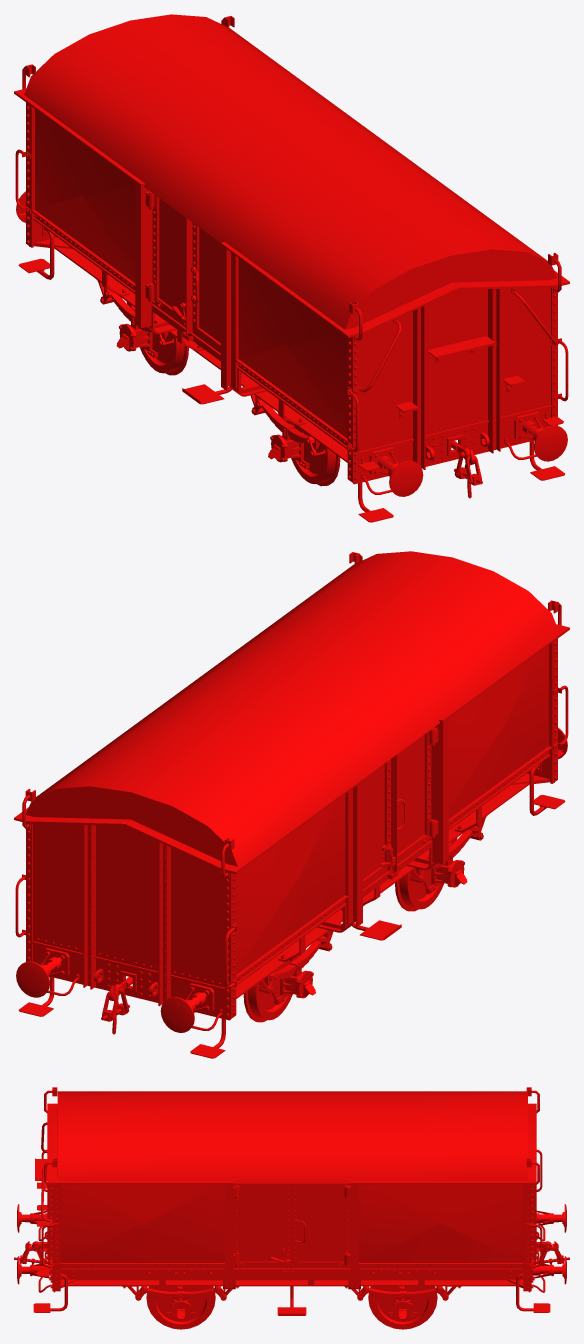
The model's file is Train.fbx.
3 views of the same model, one above another, from view 1: azimuth 30°, elevation 25°; view 2: azimuth 150°, elevation 25°; view 3: azimuth 270°, elevation 25° (orthographic). The views are drawn at different scales.
Visible parts, largest first — view 1: Train; view 2: Train; view 3: Train.
Boxes of the visible parts, <box> form: Train: <box>14,14,569,522</box>; Train: <box>14,551,569,1058</box>; Train: <box>14,1087,569,1329</box>.
Bounding box in the file's own units: 116 × 138 × 343.
